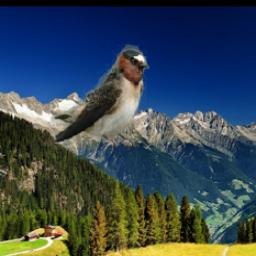Swallow: (51, 44, 149, 148)
